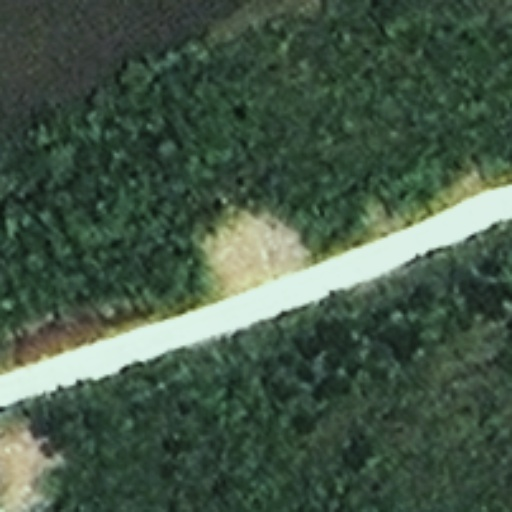landslide: (194, 204, 314, 298)
